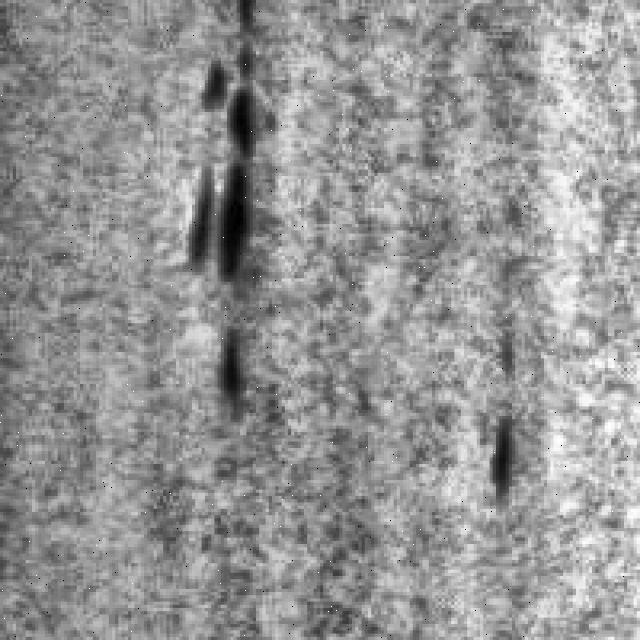Patches: (182, 0, 255, 278), (204, 317, 247, 416), (474, 410, 518, 502)
